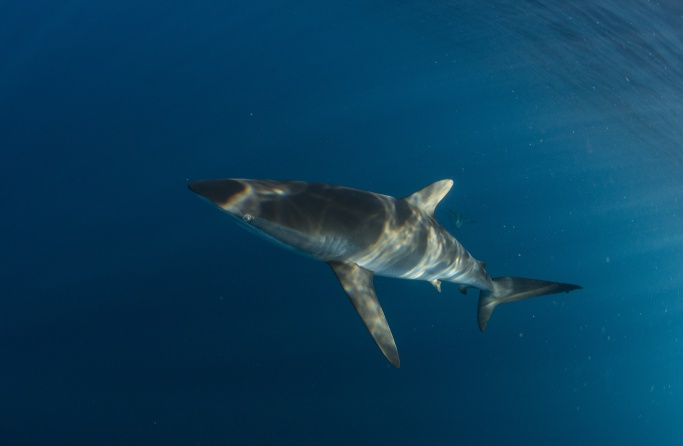Sedoso: (175, 166, 586, 374)
